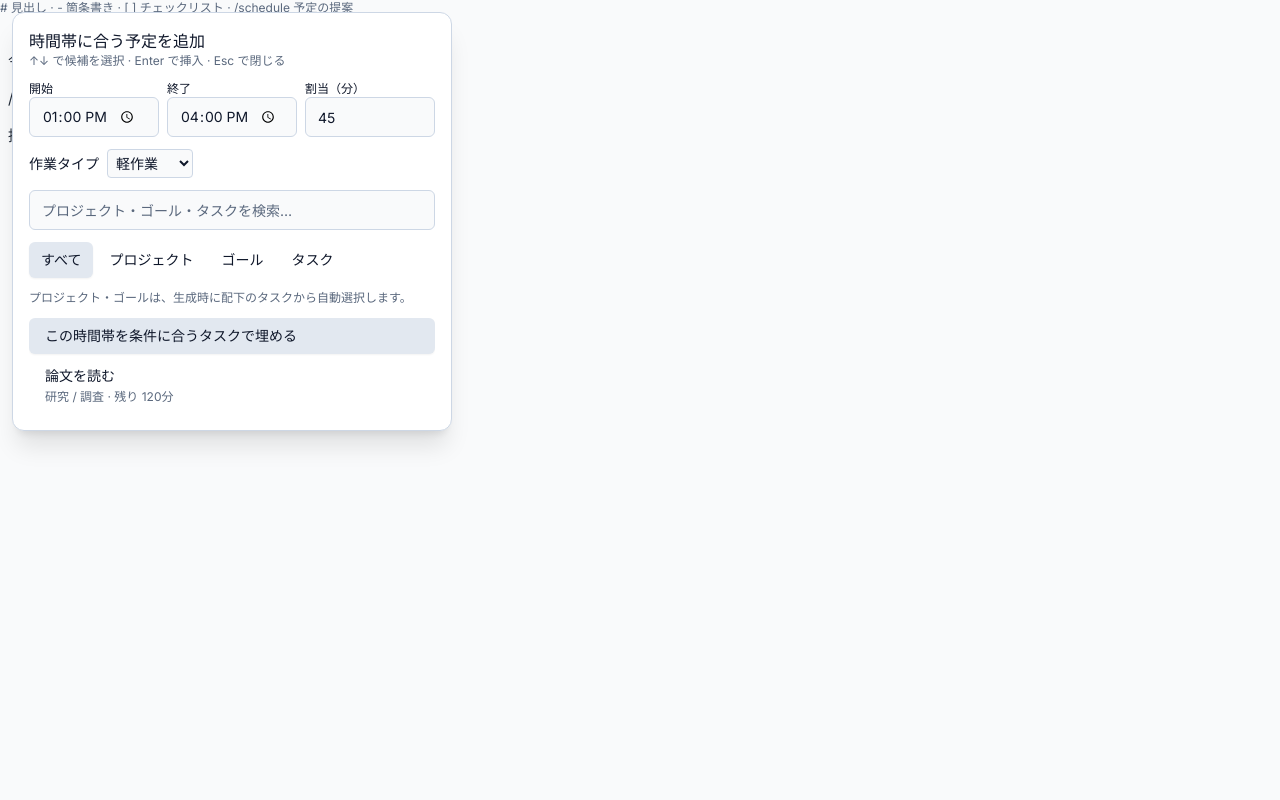
Scenario: inserts a rich task suggestion in place and keeps the surrounding note
Step 1. Click the option "論文を読む 研究 / 調査 · 残り 120分" → click(80, 376), box [29,358,435,414]
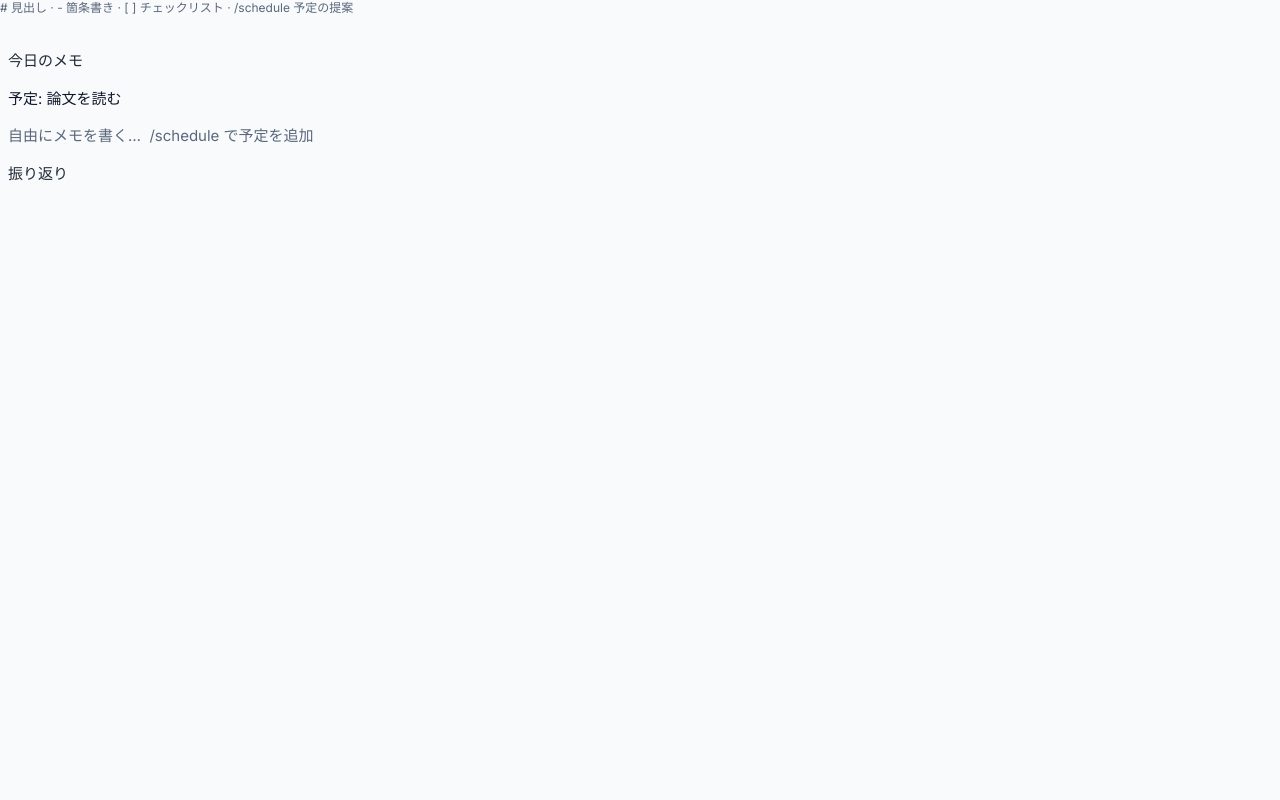
Check: the field named "日次ノート" shows "今日のメモ", box [8,51,122,182]
Check: the text "予定: 論文を読む" is shown, box [8,88,122,108]
Check: the dialog is gone
